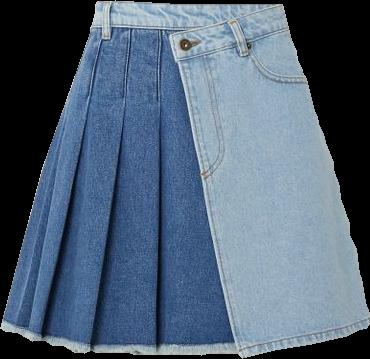Hemline: (168, 6, 369, 358)
Waistline: (0, 325, 240, 356), (97, 2, 279, 9)
